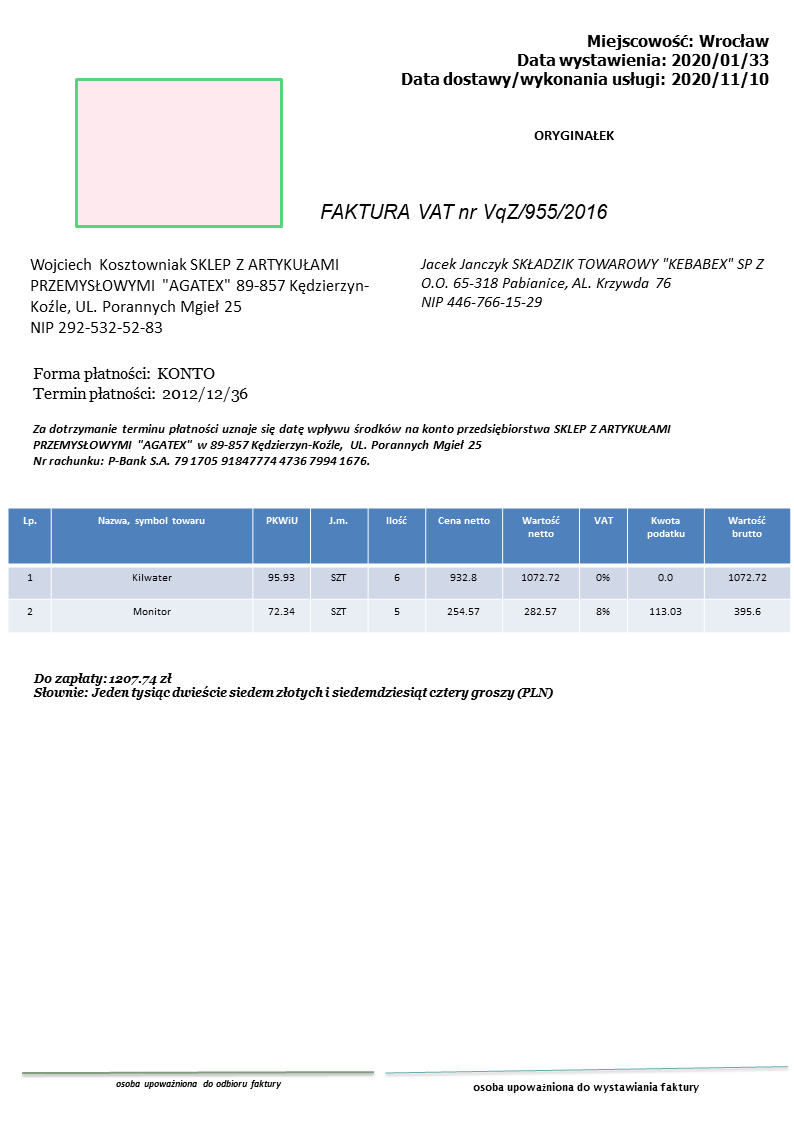Table: (7, 506, 791, 635)
TextBox: (30, 421, 675, 468), (26, 254, 373, 338), (397, 29, 773, 91), (417, 256, 767, 310), (31, 669, 556, 704), (31, 364, 250, 406), (317, 199, 610, 224), (469, 1079, 701, 1097), (112, 1077, 284, 1092), (530, 127, 617, 145)
